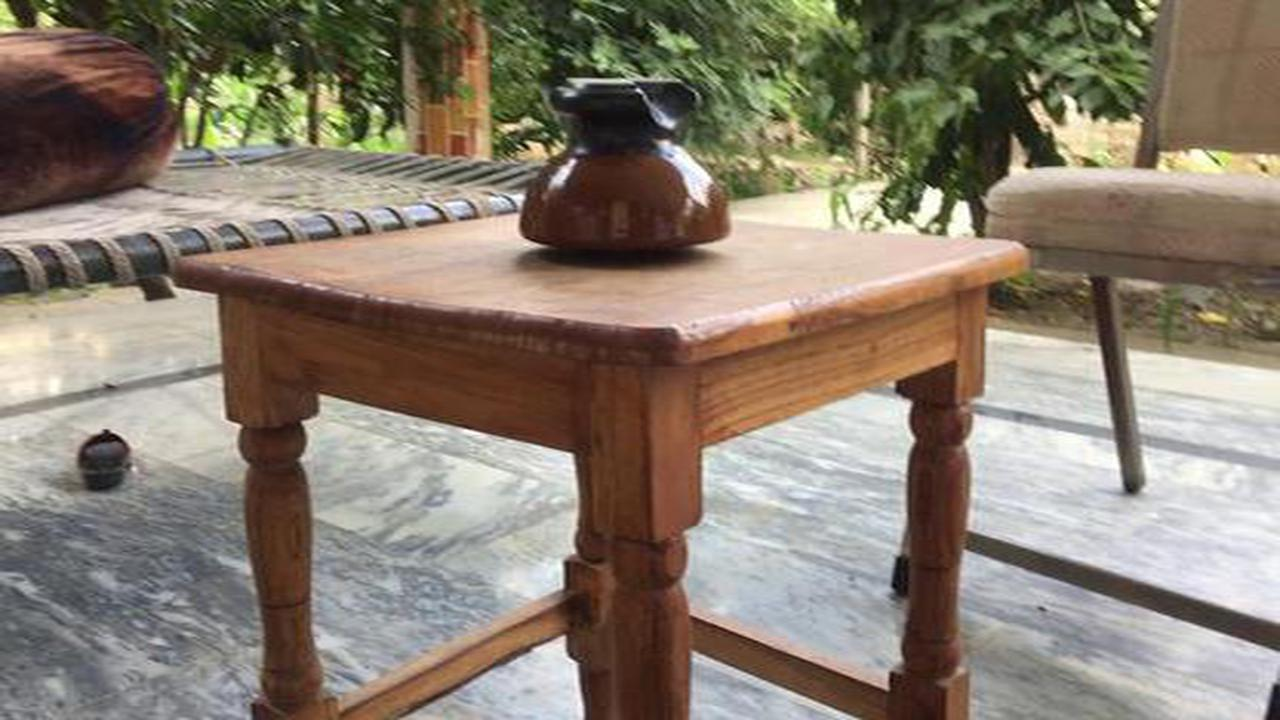insulator_pin: (505, 63, 748, 264)
